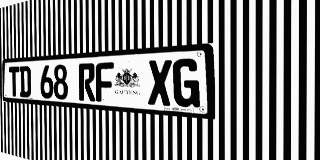6: (40, 65, 53, 99)
8: (53, 64, 68, 100)
D: (19, 66, 31, 97)
F: (96, 62, 114, 103)
G: (173, 58, 200, 108)
R: (79, 63, 95, 101)
T: (9, 66, 19, 97)
X: (148, 59, 172, 106)
